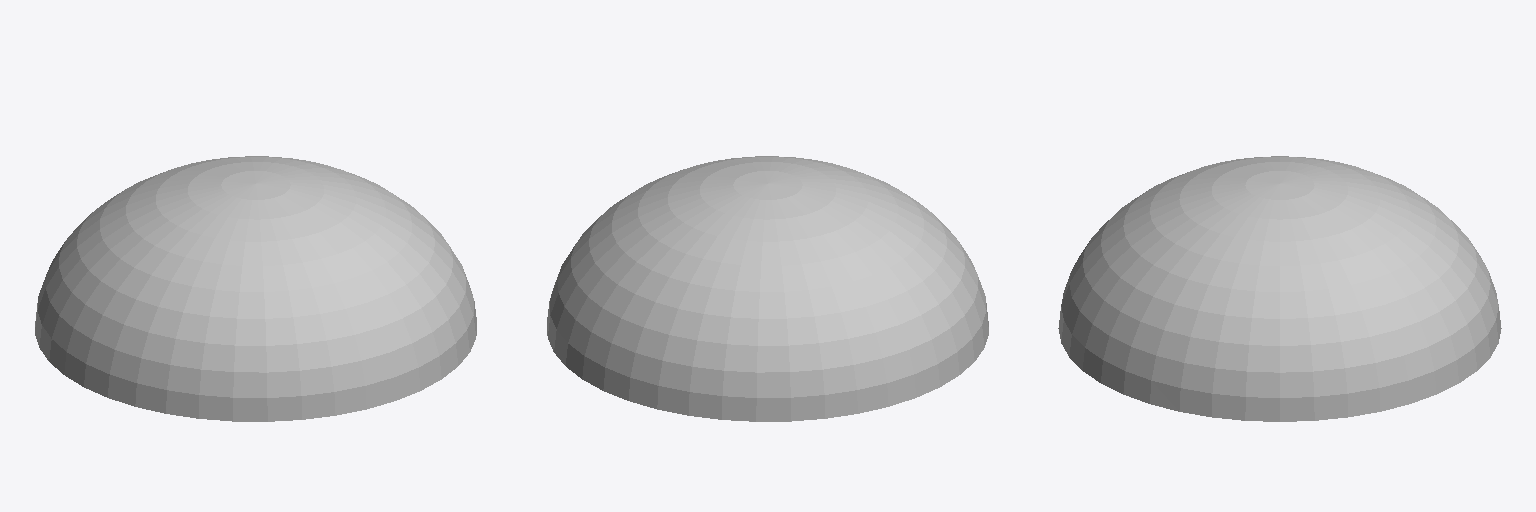
The model's file is skydome.obj.
3 views of the same model, side by side, from view 1: azimuth 30°, elevation 25°; view 2: azimuth 150°, elevation 25°; view 3: azimuth 270°, elevation 25° (orthographic).
Visible parts, largest first — view 1: Sphere001; view 2: Sphere001; view 3: Sphere001.
Boxes of the visible parts, x1,y1,x2,y2 form: Sphere001: [35, 156, 476, 421]; Sphere001: [547, 156, 988, 421]; Sphere001: [1058, 156, 1501, 421].
Size of the model in its own units: 1125 by 406 by 1125.